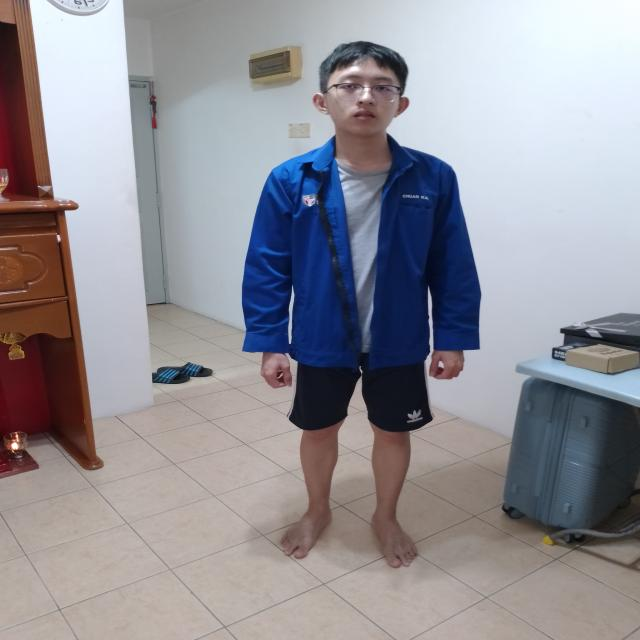person_with_labcoat: (242, 41, 481, 568)
